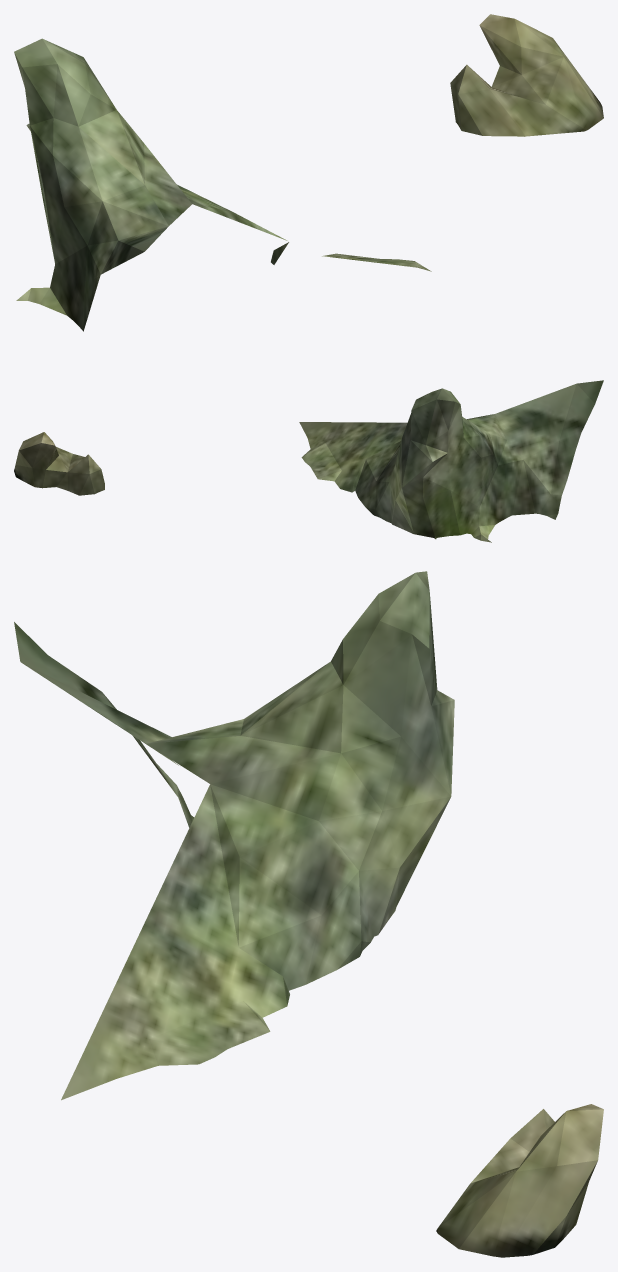
3 views of the same model, one above another, from view 1: azimuth 30°, elevation 25°; view 2: azimuth 150°, elevation 25°; view 3: azimuth 270°, elevation 25° (orthographic). The views are drawn at different scales.
Bounding box in the file's own units: 7.89 × 2.59 × 4.53.
1 material, 1 textured.
